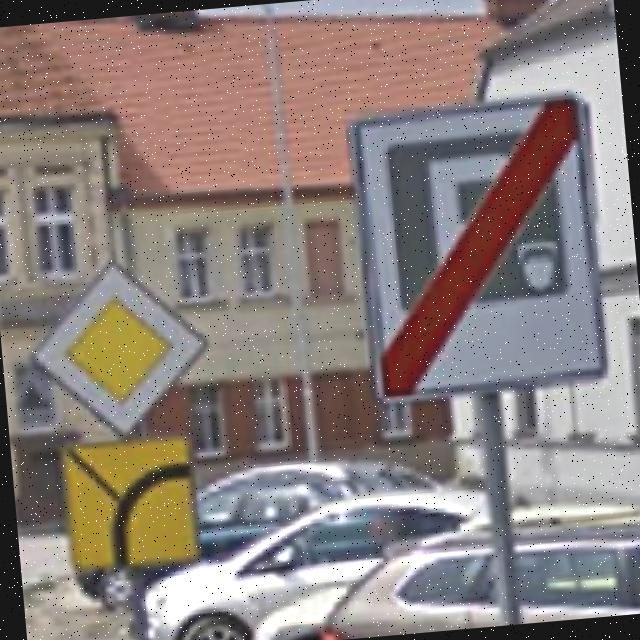Droga z pierwszenstwem: (19, 248, 218, 445)
